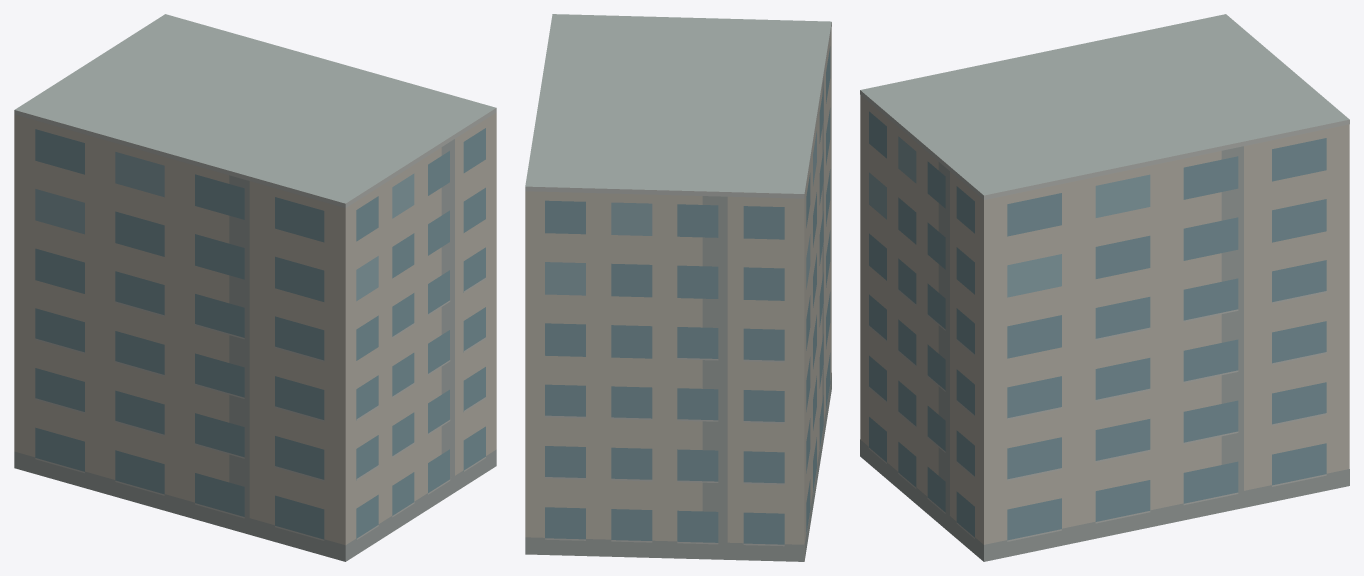
File: survey-upis-32971181.glb
3 views of the same model, side by side, from view 1: azimuth 30°, elevation 25°; view 2: azimuth 150°, elevation 25°; view 3: azimuth 270°, elevation 25° (orthographic). The views are drawn at different scales.
Visible parts, largest first — view 1: survey-upis-32971181.tmp; view 2: survey-upis-32971181.tmp; view 3: survey-upis-32971181.tmp.
Boxes of the visible parts, x1=… form: survey-upis-32971181.tmp: x1=14, y1=14, x2=496, y2=561; survey-upis-32971181.tmp: x1=525, y1=14, x2=831, y2=561; survey-upis-32971181.tmp: x1=860, y1=14, x2=1349, y2=561.
Bounding box in the file's own units: 20.52 × 19.3 × 23.39.
